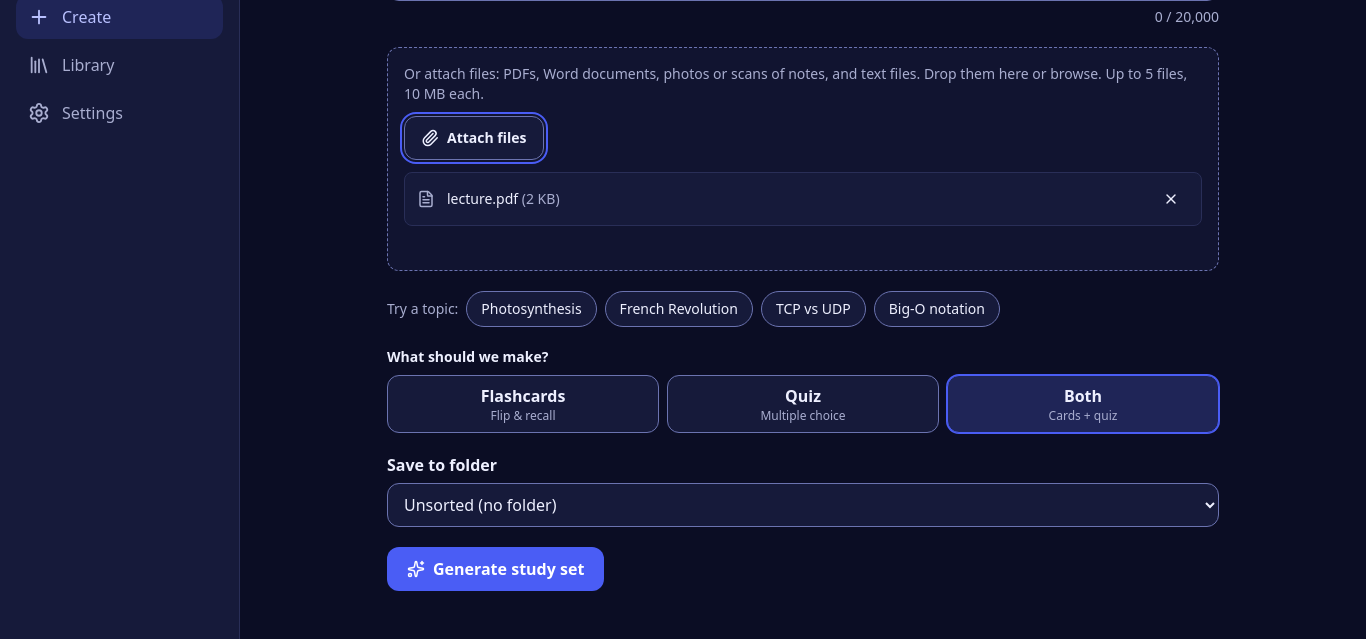
Scenario: file attachments in the input form › lets you generate from files alone and sends them with the request
The image size is (1366, 639).
Earlier steps of the test are not shown.
(page scrolled)
Click the button "Generate study set" at (496, 569), box [387, 547, 604, 591]
(page scrolled)
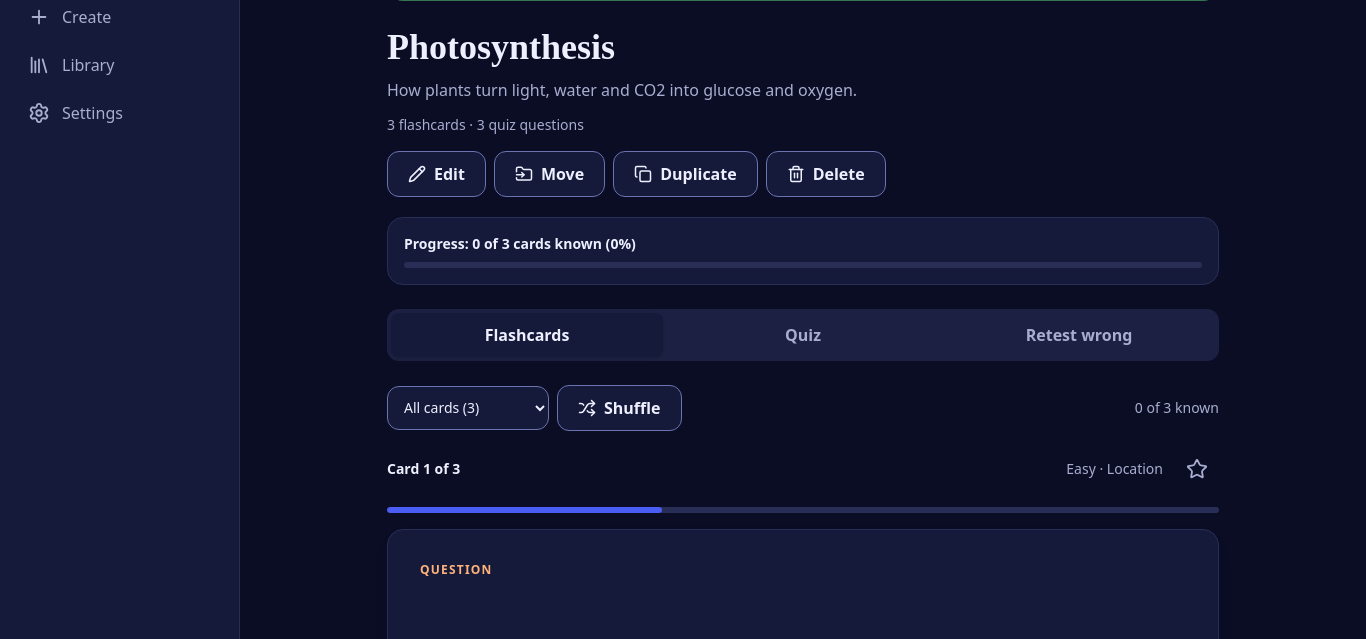
Expected: the heading "Photosynthesis" is shown, [387, 27, 615, 67]
